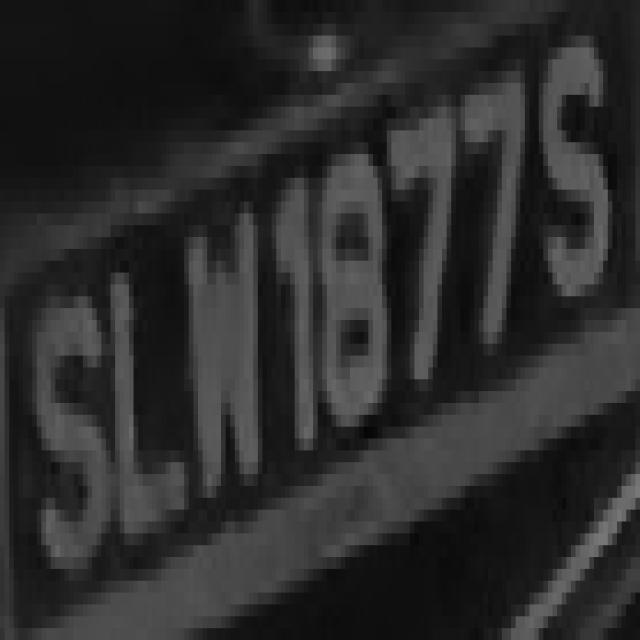1: (262, 154, 318, 522)
7: (428, 36, 530, 427), (368, 83, 456, 427)
8: (299, 119, 392, 474)
L: (106, 201, 198, 581)
S: (14, 249, 110, 592), (529, 47, 631, 356)
W: (166, 154, 267, 510)
